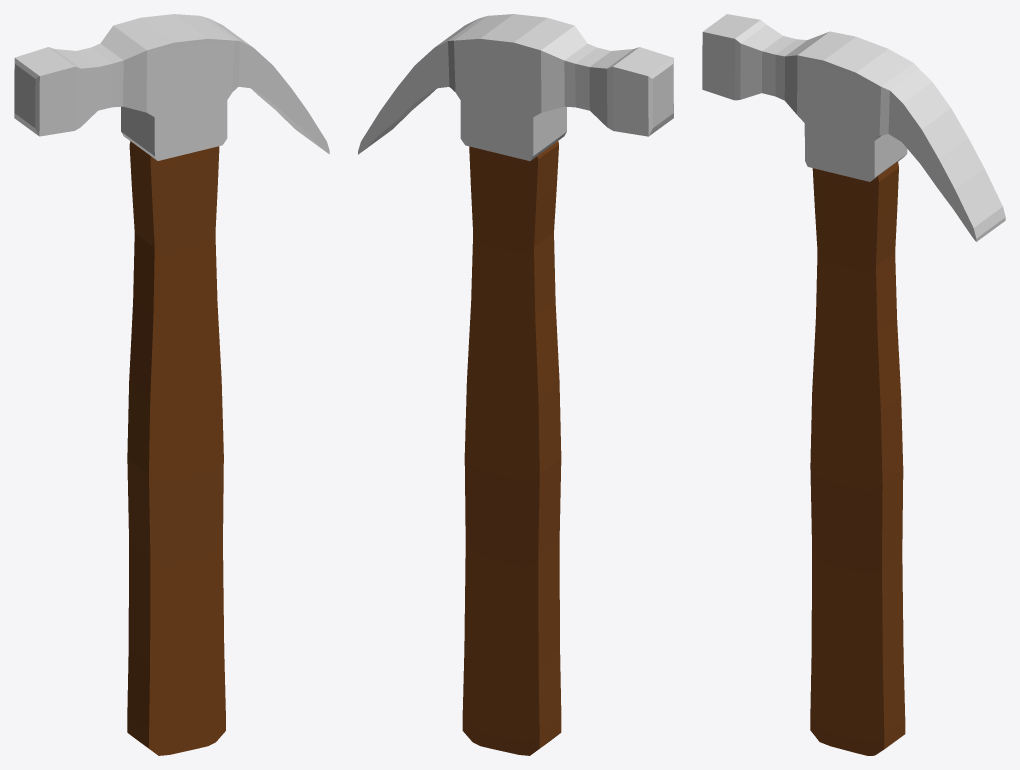
File: Hammer.glb
The picture shows the model from 3 angles, left to right: view 1: azimuth 30°, elevation 25°; view 2: azimuth 150°, elevation 25°; view 3: azimuth 330°, elevation 25°; orthographic projection. The views are drawn at different scales.
Parts seen in each view (by area): view 1: Cube, Cube.001; view 2: Cube, Cube.001; view 3: Cube, Cube.001.
Part boxes in pixels (bbox=[...]): Cube: bbox=[127, 141, 225, 755]; Cube.001: bbox=[14, 14, 329, 160]; Cube: bbox=[462, 141, 561, 755]; Cube.001: bbox=[358, 14, 673, 160]; Cube: bbox=[810, 161, 905, 755]; Cube.001: bbox=[702, 14, 1005, 241].
Bounding box in the file's own units: 1.79 × 4.24 × 0.3634.
